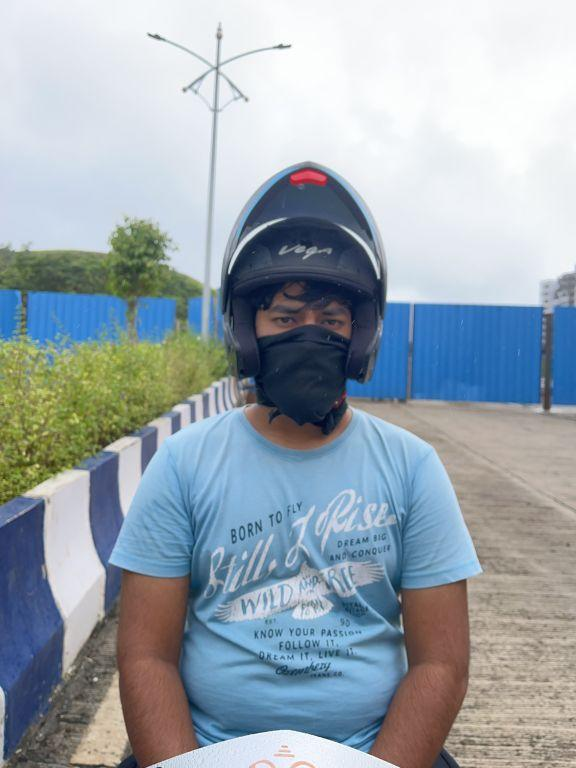helmet: (210, 140, 394, 418)
